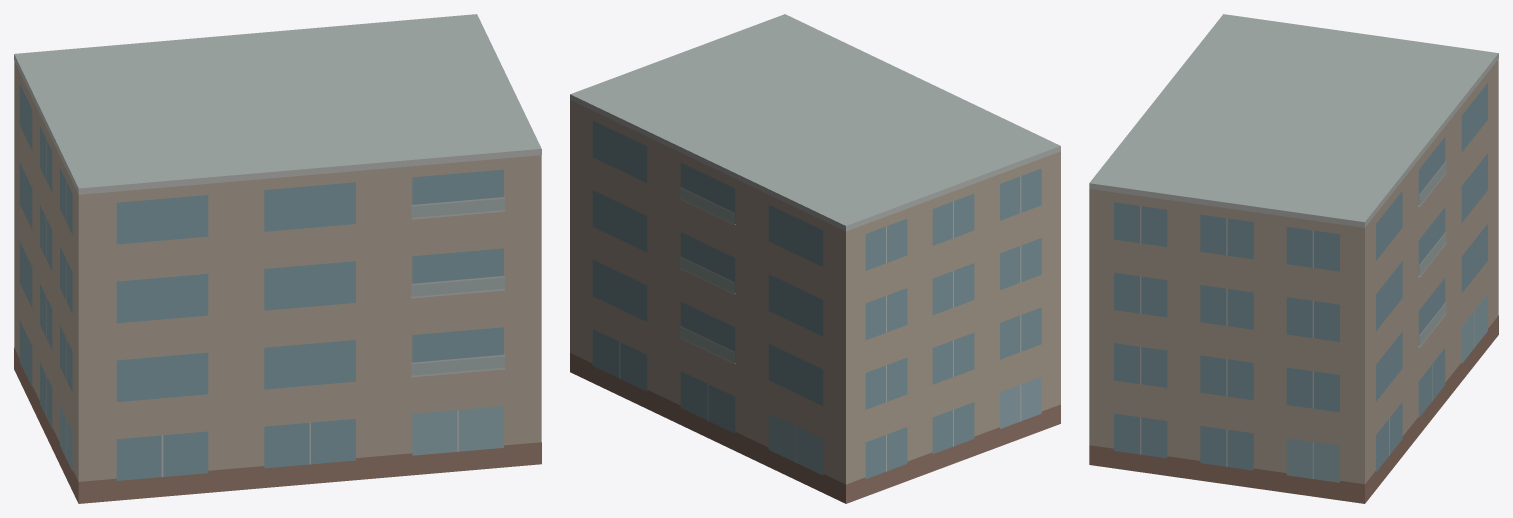
Rendered from residential-8ea045cf-879d-4dba-912c-afcffa7ca657.glb.
3 views of the same model, side by side, from view 1: azimuth 30°, elevation 25°; view 2: azimuth 150°, elevation 25°; view 3: azimuth 270°, elevation 25° (orthographic). The views are drawn at different scales.
Visible parts, largest first — view 1: residential-8ea045cf-879d-4dba-912c-afcffa7ca657.tmp; view 2: residential-8ea045cf-879d-4dba-912c-afcffa7ca657.tmp; view 3: residential-8ea045cf-879d-4dba-912c-afcffa7ca657.tmp.
Boxes of the visible parts, left/top/right/bottom form: residential-8ea045cf-879d-4dba-912c-afcffa7ca657.tmp: left=14, top=14, right=541, bottom=503; residential-8ea045cf-879d-4dba-912c-afcffa7ca657.tmp: left=570, top=14, right=1060, bottom=503; residential-8ea045cf-879d-4dba-912c-afcffa7ca657.tmp: left=1089, top=14, right=1498, bottom=503.
Bounding box in the file's own units: 19.35 × 12.2 × 16.09.
